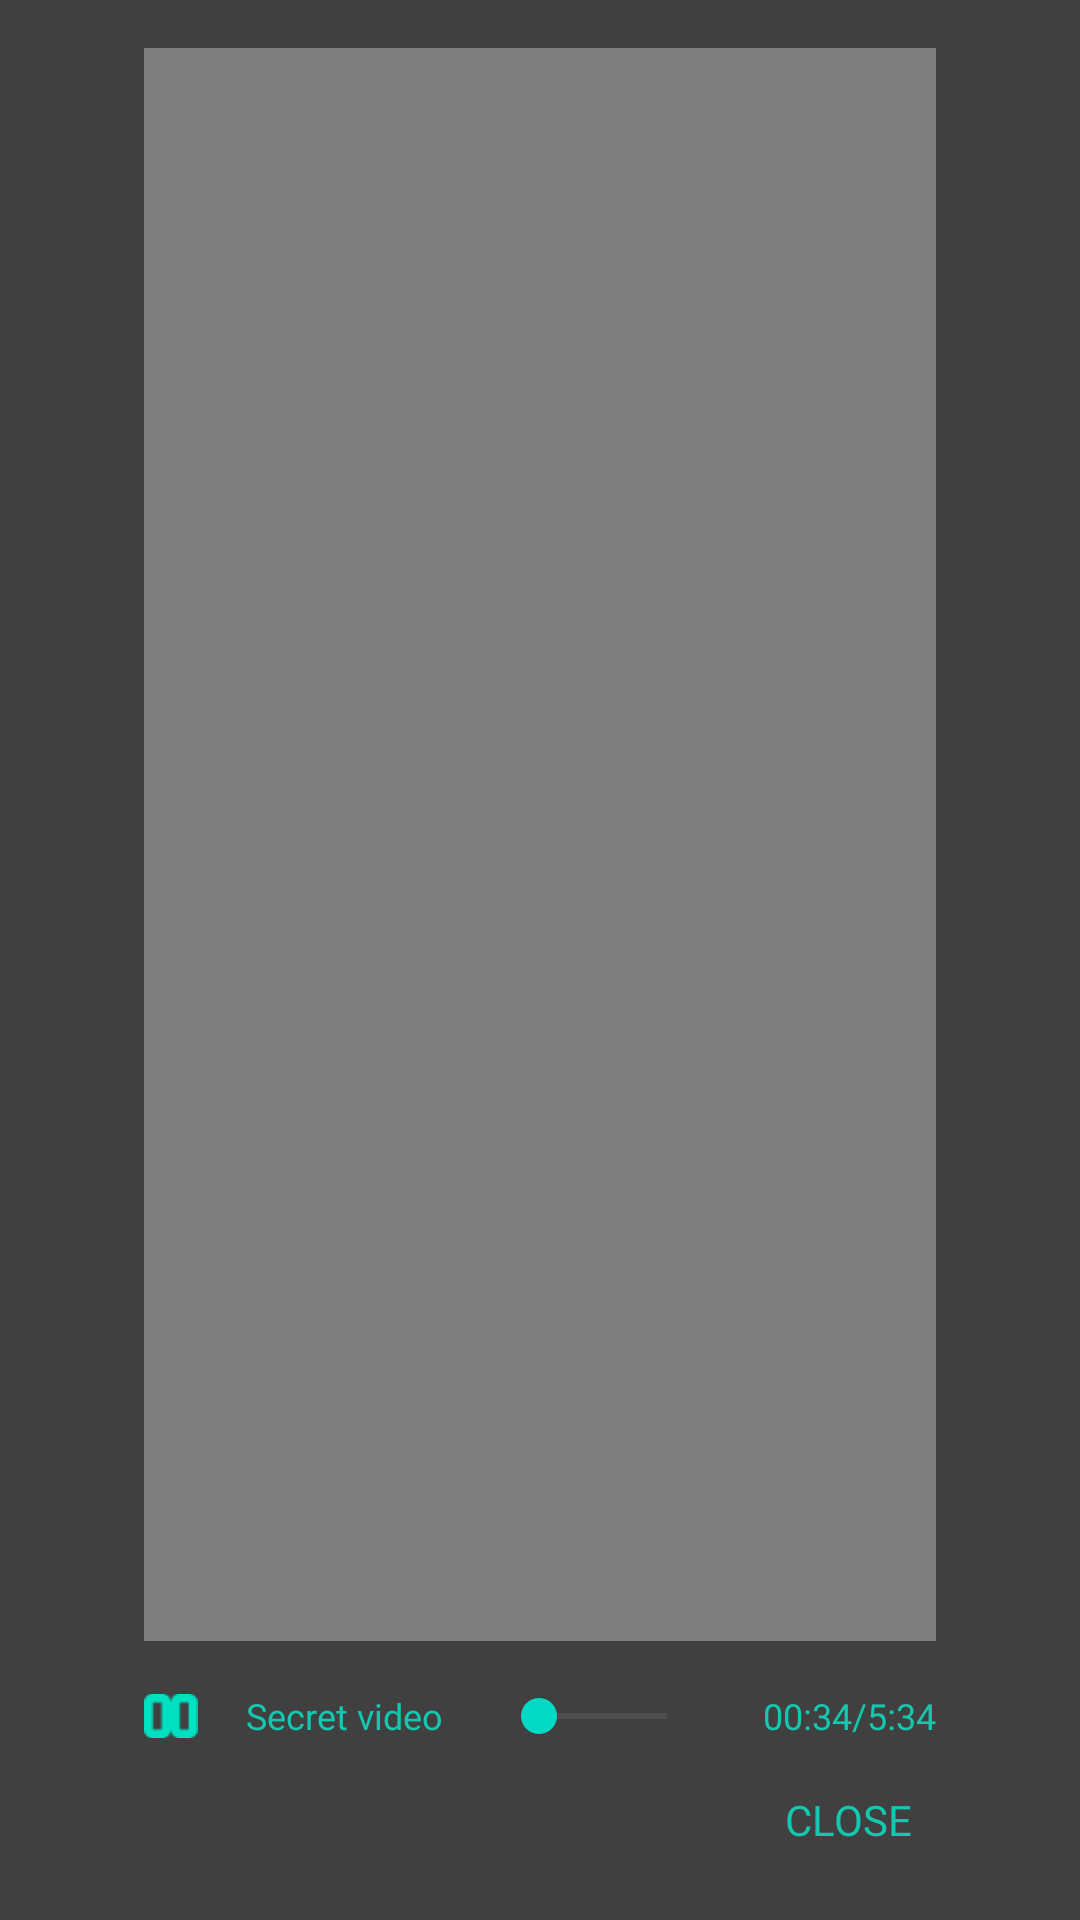

Screen size 1080px x 1920px. Icon name, then its center in pixels as point (x, y):
pause: point (171, 1716)
